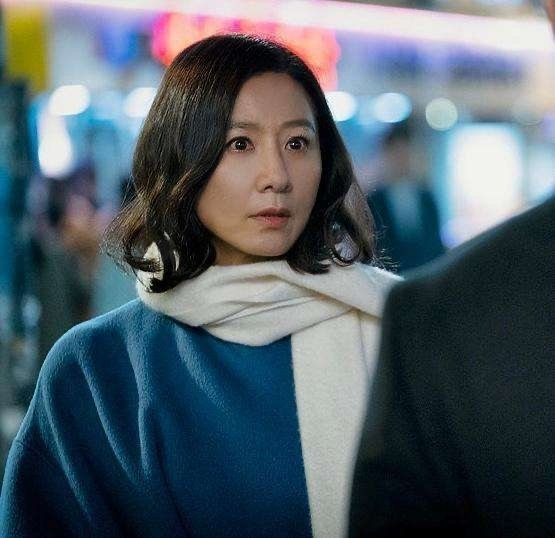noWear: (187, 105, 322, 256)
